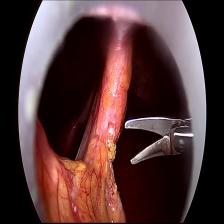Scissors: (124, 114, 197, 168)
